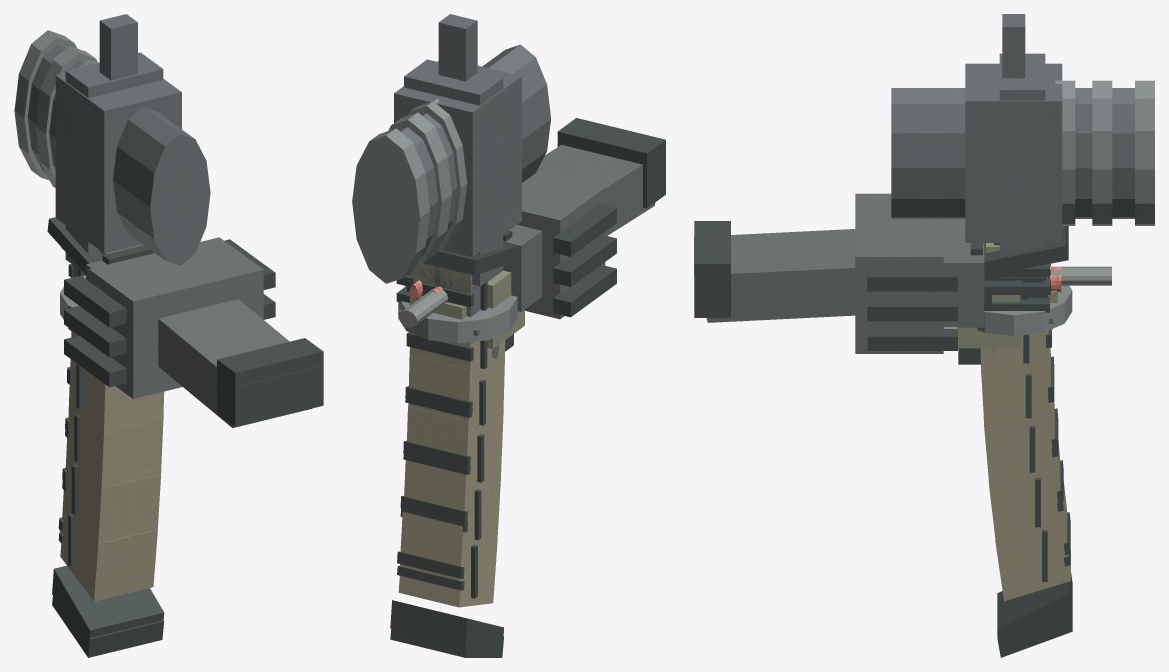
File: weapon_auga3.glb
3 views of the same model, side by side, from view 1: azimuth 30°, elevation 25°; view 2: azimuth 150°, elevation 25°; view 3: azimuth 270°, elevation 25° (orthographic). The views are drawn at different scales.
Visible parts, largest first — view 1: weapon_auga3__L0_magazine__aug_42, weapon_auga3__L0_handguard__aug_rail, weapon_auga3__L0_optic__scope6, weapon_auga3__L0_handguard__aug_guard, weapon_auga3__L1_handguard__aug_guard, weapon_auga3__L1_optic__prism2, weapon_auga3__L0_optic__prism2, weapon_auga3__L1_handguard__aug_rail, weapon_auga3__L0_magazine__aug_30, weapon_auga3__L1_optic__scope6, weapon_auga3__L1_magazine__aug_42, weapon_auga3__L1_magazine__aug_30 (+8 smaller); view 2: weapon_auga3__L0_magazine__aug_30, weapon_auga3__L1_magazine__aug_30, weapon_auga3__L0_optic__scope6, weapon_auga3__L1_optic__prism2, weapon_auga3__L1_optic__scope6, weapon_auga3__L0_optic__prism2, weapon_auga3__L0_handguard__aug_guard, weapon_auga3__L0_magazine__aug_42, weapon_auga3__L0_handguard__aug_rail, weapon_auga3__L1_handguard__aug_rail, weapon_auga3__L1_handguard__aug_guard, weapon_auga3__L1_magazine__aug_42 (+12 smaller); view 3: weapon_auga3__L1_optic__prism2, weapon_auga3__L1_magazine__aug_30, weapon_auga3__L0_optic__prism2, weapon_auga3__L0_optic__scope6, weapon_auga3__L0_handguard__aug_guard, weapon_auga3__L0_handguard__aug_rail, weapon_auga3__L1_handguard__aug_guard, weapon_auga3__L1_handguard__aug_rail, weapon_auga3__L0_magazine__aug_30, weapon_auga3__L0_optic__scope4, weapon_auga3__L1_optic__scope6, weapon_auga3__L1_magazine__aug_42 (+14 smaller).
Part boxes in pixels (box(x1,y1,x2,y2)): weapon_auga3__L0_magazine__aug_42: box(52, 268, 162, 656); weapon_auga3__L0_handguard__aug_rail: box(64, 244, 273, 397); weapon_auga3__L0_optic__scope6: box(15, 30, 209, 262); weapon_auga3__L0_handguard__aug_guard: box(87, 266, 321, 425); weapon_auga3__L1_handguard__aug_guard: box(86, 260, 323, 427); weapon_auga3__L1_optic__prism2: box(36, 46, 181, 253); weapon_auga3__L0_optic__prism2: box(36, 46, 180, 250); weapon_auga3__L1_handguard__aug_rail: box(64, 237, 275, 398); weapon_auga3__L0_magazine__aug_30: box(52, 267, 162, 652); weapon_auga3__L1_optic__scope6: box(14, 30, 210, 265); weapon_auga3__L1_magazine__aug_42: box(52, 267, 164, 657); weapon_auga3__L1_magazine__aug_30: box(52, 264, 164, 655); weapon_auga3__L0_magazine__aug_30: box(391, 267, 503, 651); weapon_auga3__L1_magazine__aug_30: box(390, 280, 505, 655); weapon_auga3__L0_optic__scope6: box(353, 45, 545, 281); weapon_auga3__L1_optic__prism2: box(388, 61, 521, 264); weapon_auga3__L1_optic__scope6: box(352, 44, 551, 283); weapon_auga3__L0_optic__prism2: box(390, 66, 521, 261); weapon_auga3__L0_handguard__aug_guard: box(503, 119, 664, 310); weapon_auga3__L0_magazine__aug_42: box(391, 282, 503, 656); weapon_auga3__L0_handguard__aug_rail: box(517, 172, 614, 317); weapon_auga3__L1_handguard__aug_rail: box(518, 171, 616, 319); weapon_auga3__L1_handguard__aug_guard: box(503, 118, 665, 311); weapon_auga3__L1_magazine__aug_42: box(390, 274, 504, 657); weapon_auga3__L1_optic__prism2: box(957, 63, 1112, 242); weapon_auga3__L1_magazine__aug_30: box(980, 263, 1072, 655); weapon_auga3__L0_optic__prism2: box(957, 65, 1111, 240); weapon_auga3__L0_optic__scope6: box(892, 80, 1154, 225); weapon_auga3__L0_handguard__aug_guard: box(696, 222, 982, 326); weapon_auga3__L0_handguard__aug_rail: box(857, 214, 956, 353); weapon_auga3__L1_handguard__aug_guard: box(694, 219, 984, 327); weapon_auga3__L1_handguard__aug_rail: box(855, 193, 957, 353); weapon_auga3__L0_magazine__aug_30: box(982, 270, 1072, 636); weapon_auga3__L0_optic__scope4: box(933, 88, 1092, 218); weapon_auga3__L1_optic__scope6: box(891, 80, 1154, 225); weapon_auga3__L1_magazine__aug_42: box(980, 278, 1072, 657).
Bounding box in the file's own units: 2.79 × 9.99 × 6.74.
3 materials, 3 textured.
